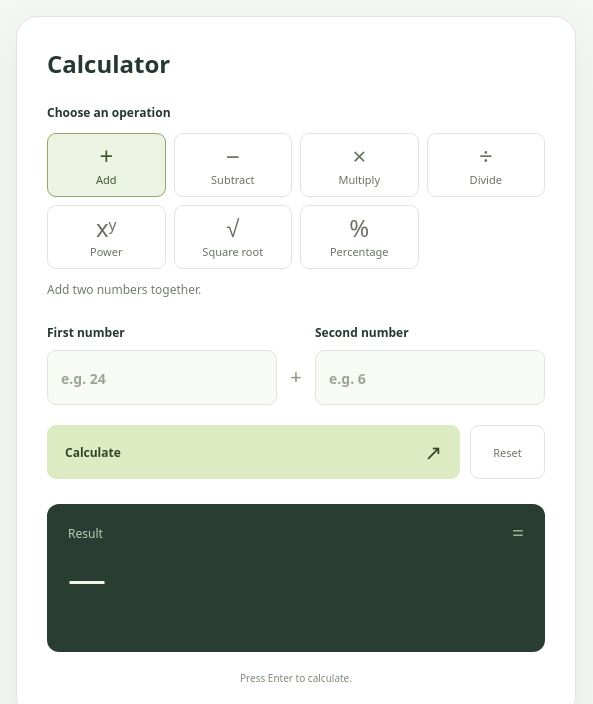
calculator form › validates the second field
Type "4" into the field labelled "First number".
click(162, 378); type("4")  # box x1=47 y1=350 x2=277 y2=405
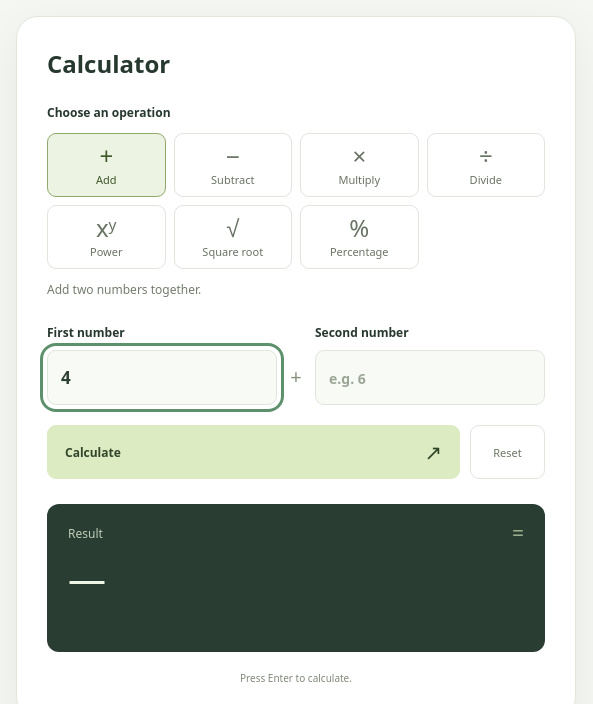
Type "wrong" into the field labelled "Second number".
click(430, 378); type("wrong")  # box x1=315 y1=350 x2=545 y2=405
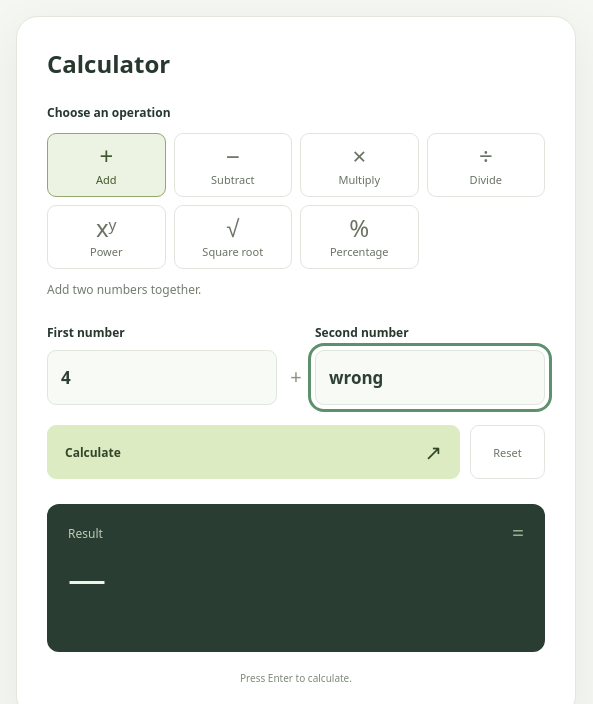
Click the button "Calculate ↗".
click(93, 452)  # box x1=47 y1=425 x2=460 y2=479
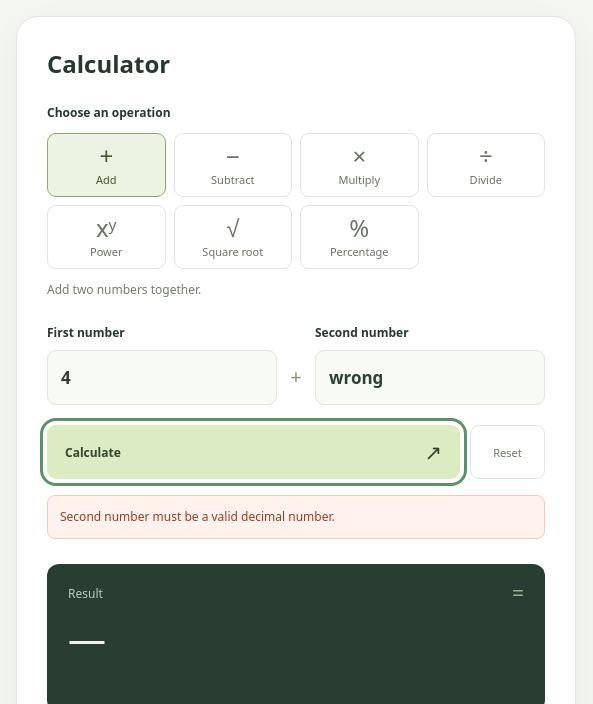
Expected: the message "Second number must be a valid decimal number." is shown, x1=47 y1=495 x2=545 y2=539
